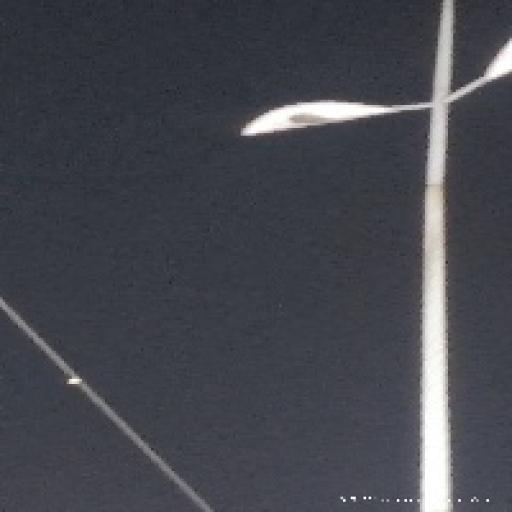Not Working: (226, 84, 386, 154)
